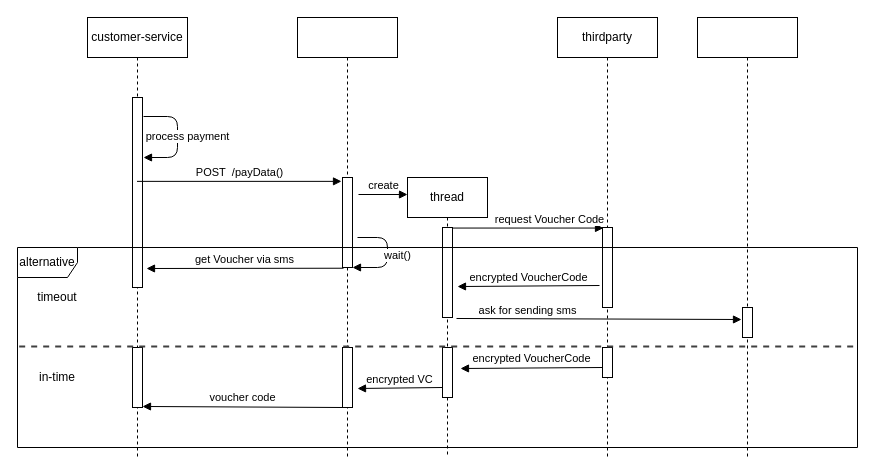
The diagram is 876 pixels wide and 475 high, and some of its shapes have lost their labels. The box of each missing label's shape, as (x1, y1, x2, y2) in pixels:
notification-service: (696, 16, 798, 458)
prepaid-service: (296, 16, 398, 458)
